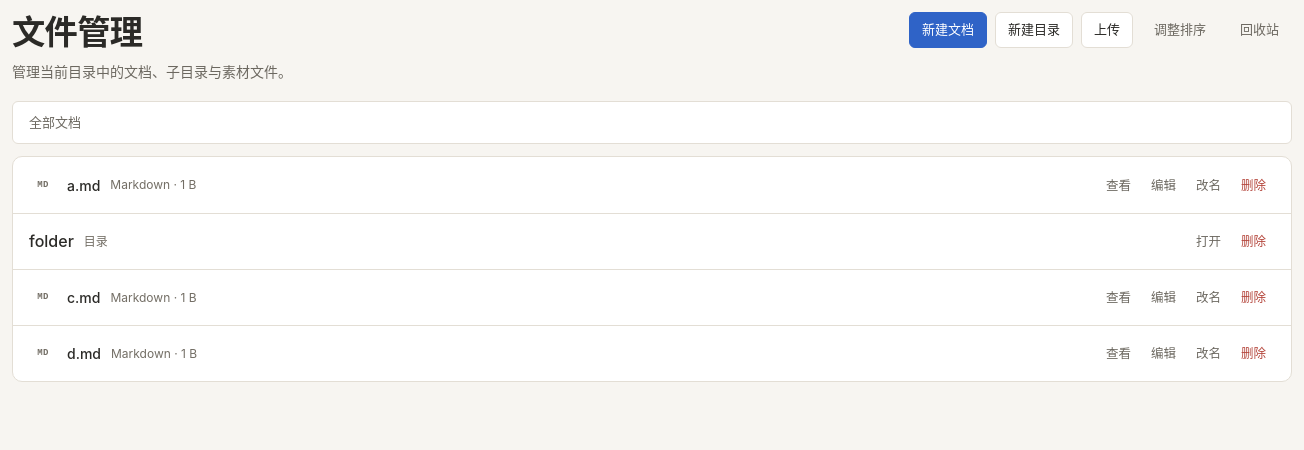
Scenario: 目录拖拽排序 › 将条目拖到目标之后
The image size is (1304, 450).
Click the button with class "order-start".
click(1180, 30)  # box [1141,12,1219,48]
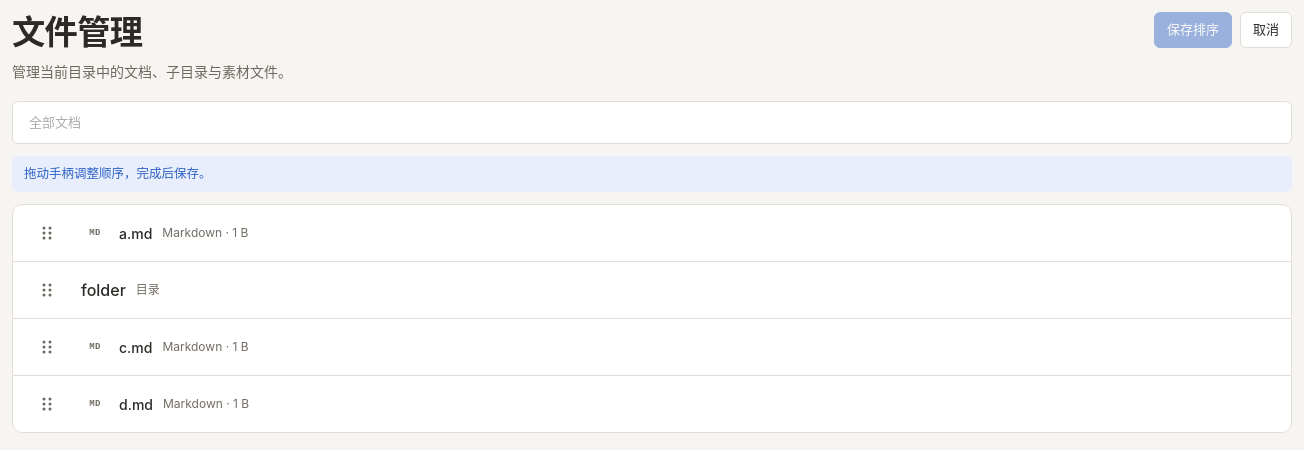
Press the mouse on the 1st button with class "order-handle" at (47, 233), box [29,215,65,251]
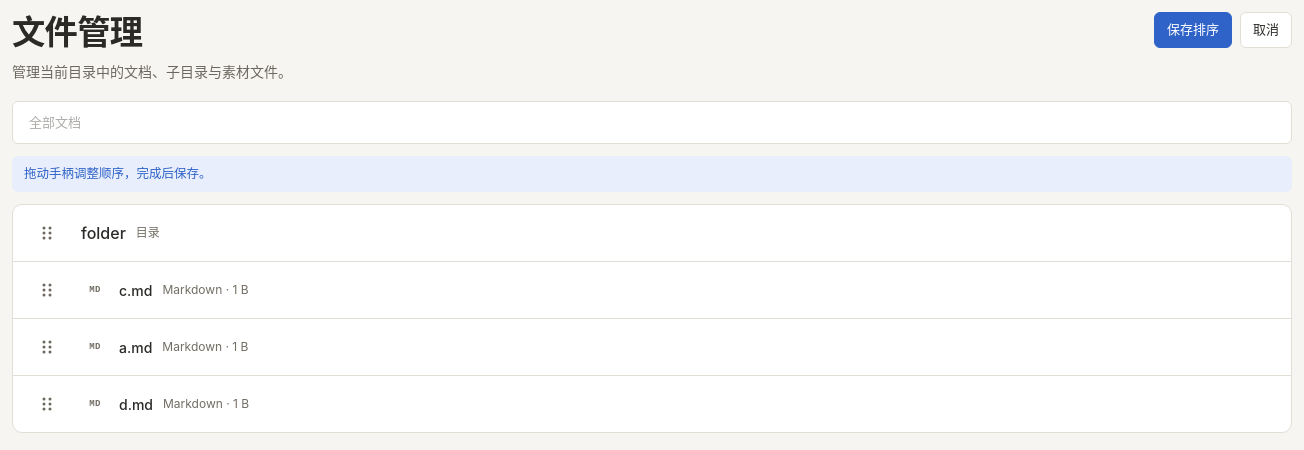
Check: the button "保存排序" is enabled, box [1154,12,1232,48]
